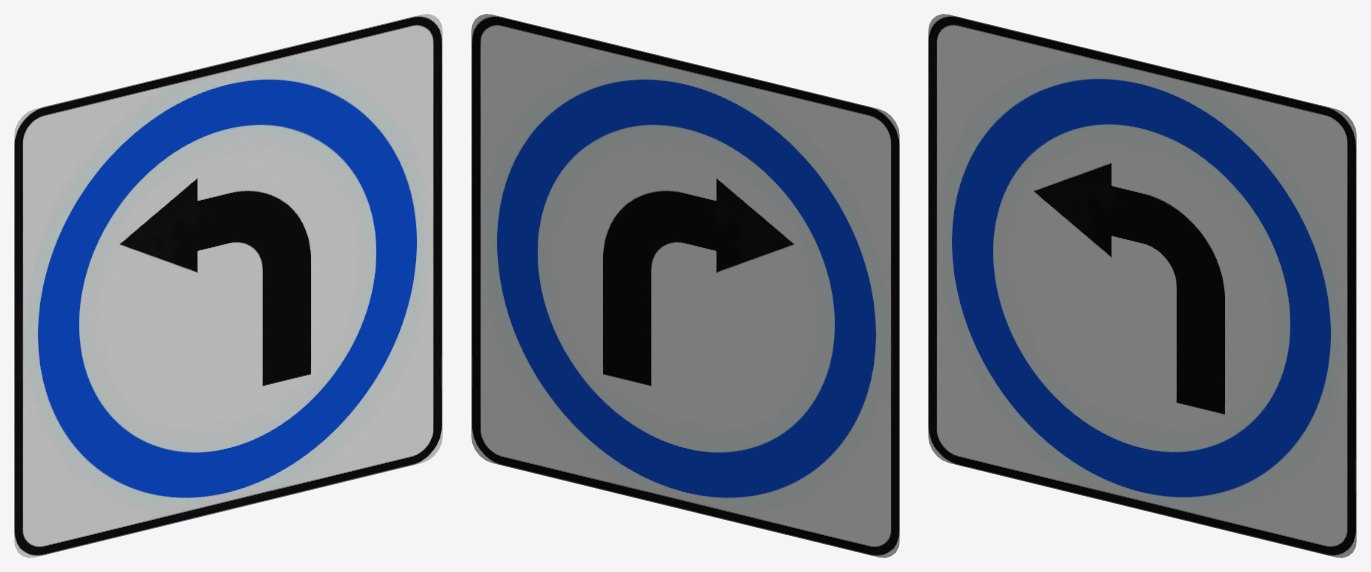
File: azul_left.gltf
The picture shows the model from 3 angles, left to right: view 1: azimuth 30°, elevation 25°; view 2: azimuth 150°, elevation 25°; view 3: azimuth 330°, elevation 25°; orthographic projection.
Parts seen in each view (by area): view 1: azul_left; view 2: azul_left; view 3: azul_left.
Boxes of the visible parts, x1,y1,x2,y2 form: azul_left: (14,14,442,557); azul_left: (471,14,899,557); azul_left: (928,14,1356,557).
Size of the model in its own units: 1.51 by 1.51 by 3.36e-16.
1 material, 1 textured.
